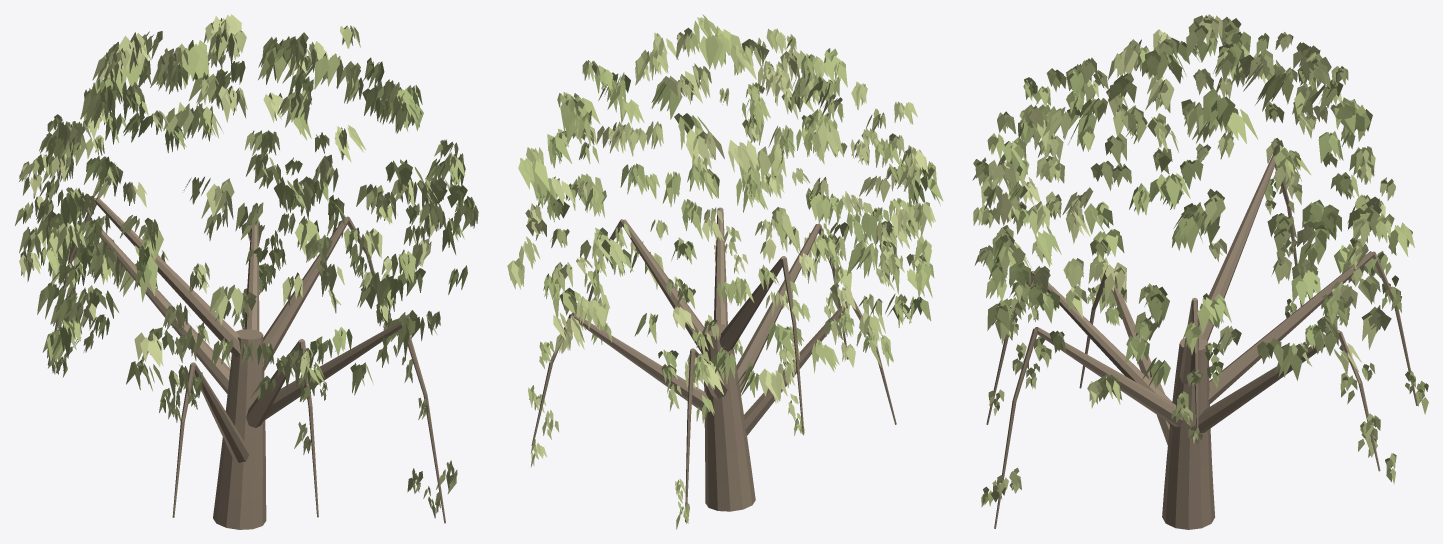
The model's file is StreetGinkgo_Willow_Refined.fbx.
3 renders of one model, left to right at view 1: azimuth 30°, elevation 25°; view 2: azimuth 150°, elevation 25°; view 3: azimuth 270°, elevation 25°, orthographic. The views are drawn at different scales.
Parts seen in each view (by area): view 1: StreetGinkgo_Willow_Refined; view 2: StreetGinkgo_Willow_Refined; view 3: StreetGinkgo_Willow_Refined.
Boxes of the visible parts, <box> form: StreetGinkgo_Willow_Refined: <box>15,14,478,529</box>; StreetGinkgo_Willow_Refined: <box>507,14,943,529</box>; StreetGinkgo_Willow_Refined: <box>972,14,1428,529</box>.
Size of the model in its own units: 415 by 476 by 404.
